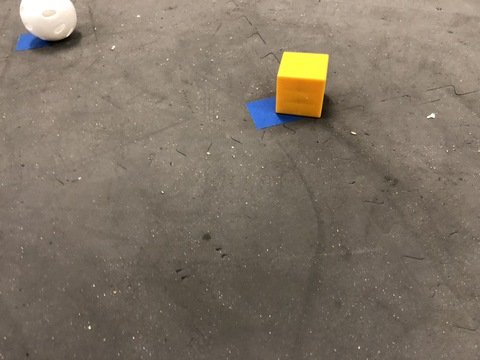ball: (1, 1, 79, 43)
block: (256, 40, 340, 129)
